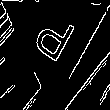P_SW: (28, 7, 79, 69)
